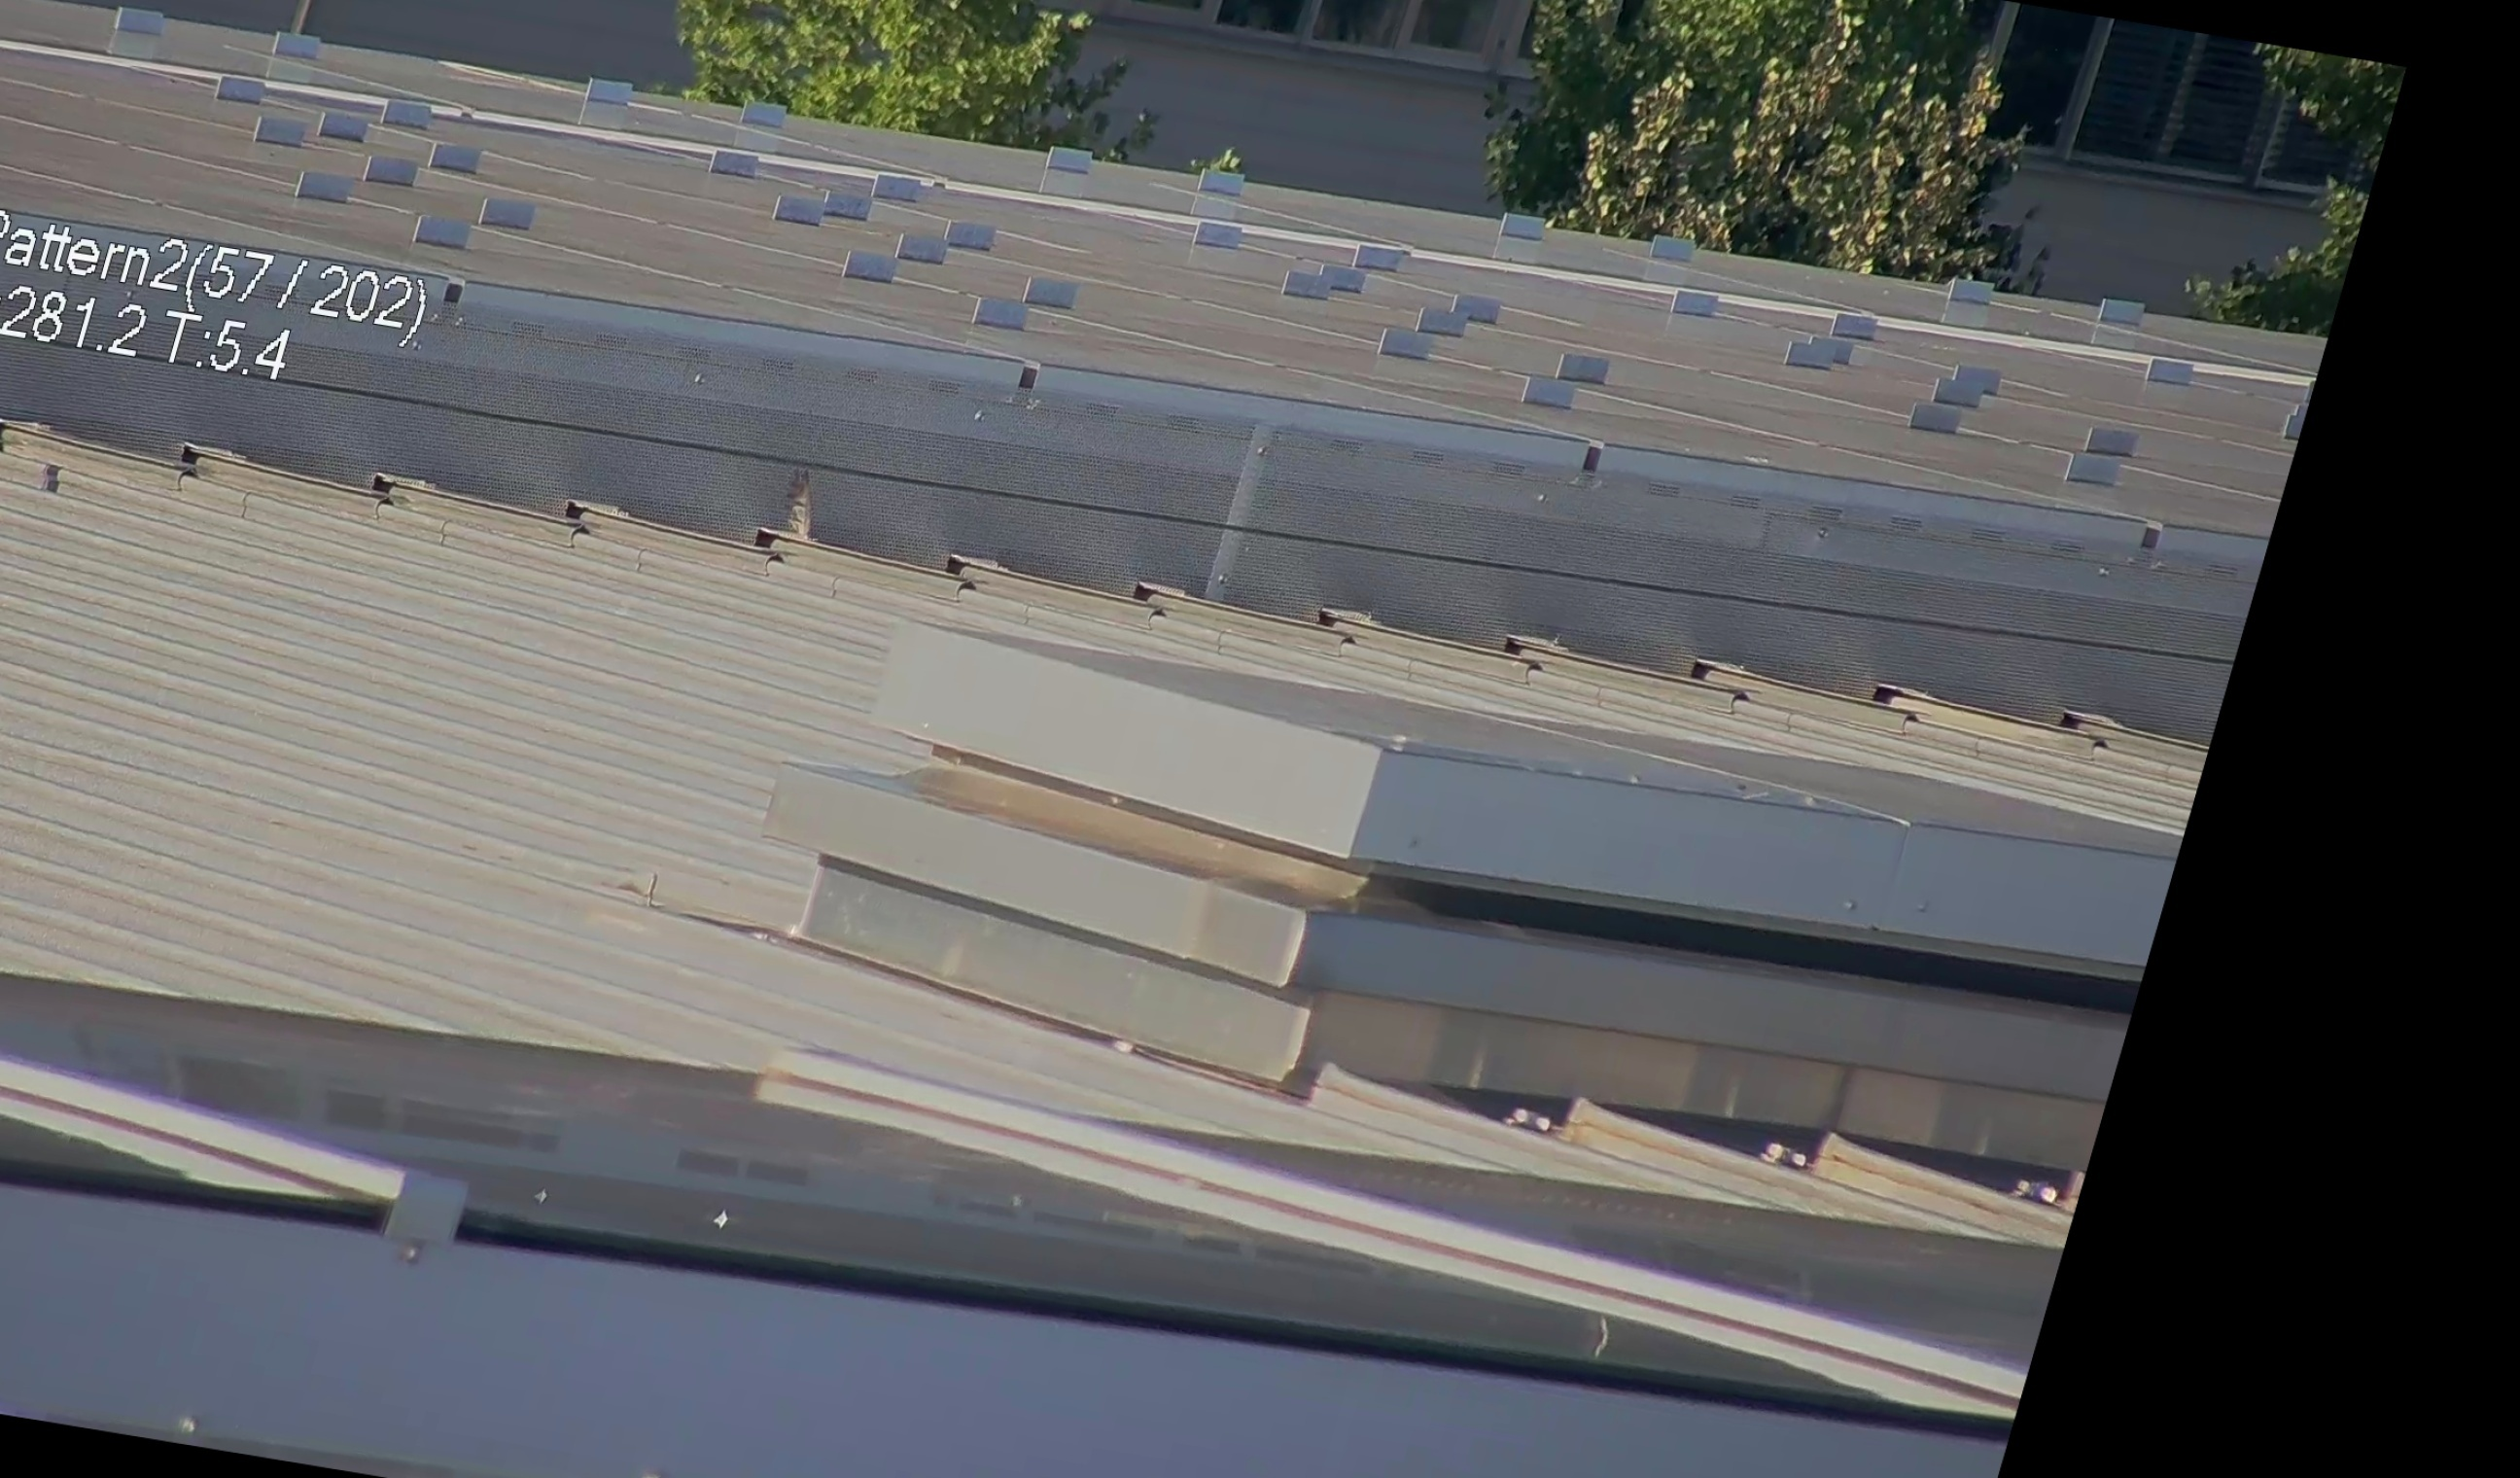Other: (739, 447, 839, 567)
